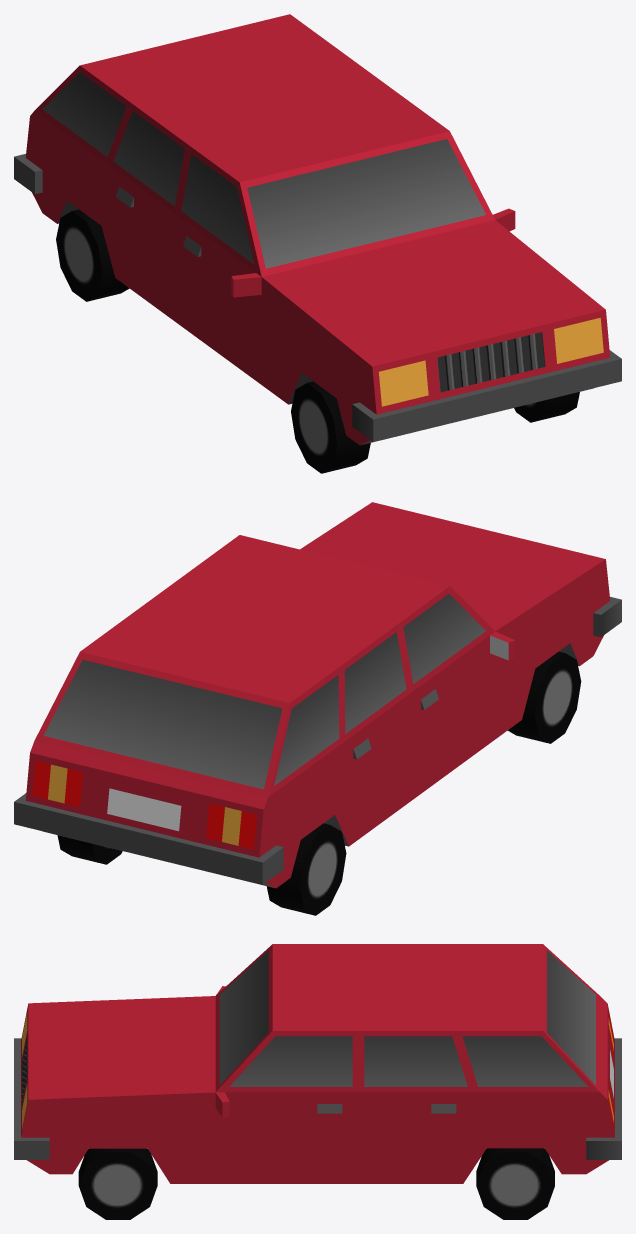
Rendered from Car_Type_B_01.FBX.
The picture shows the model from 3 angles, top to bottom: view 1: azimuth 30°, elevation 25°; view 2: azimuth 150°, elevation 25°; view 3: azimuth 270°, elevation 25°; orthographic projection. The views are drawn at different scales.
Parts seen in each view (by area): view 1: Car_Type_B_01; view 2: Car_Type_B_01; view 3: Car_Type_B_01.
Boxes of the visible parts, x1=… form: Car_Type_B_01: x1=14, y1=14, x2=621, y2=473; Car_Type_B_01: x1=14, y1=502, x2=621, y2=915; Car_Type_B_01: x1=14, y1=944, x2=621, y2=1219.
Bounding box in the file's own units: 2.17 × 1.58 × 4.79.
